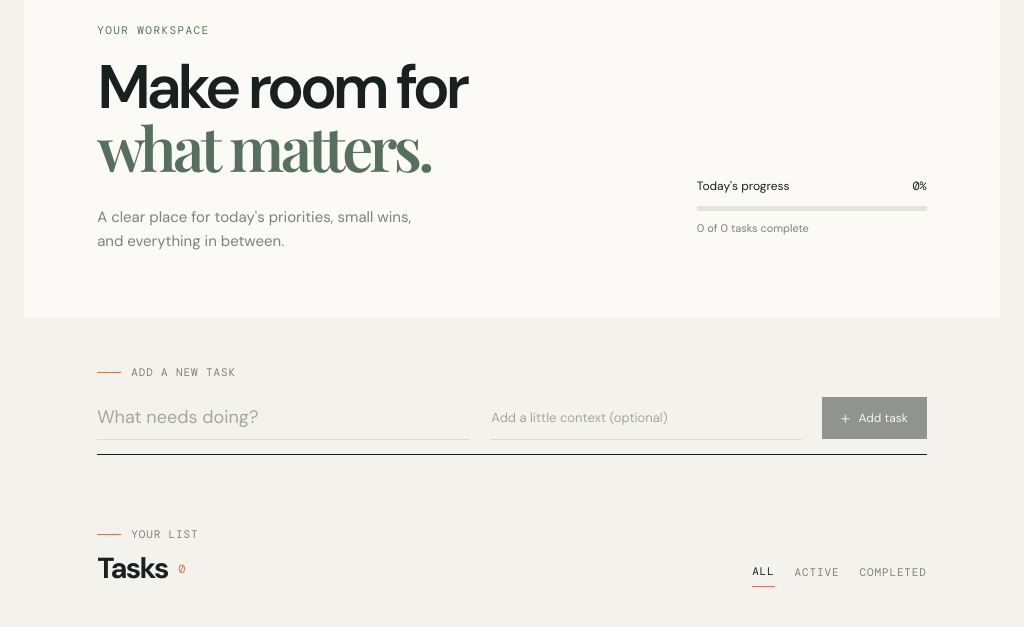
Test: Taskflow app › creates a task through the API
Type "Ship feature" into the field named "Task title" at point(283, 418), box x1=97 y1=395 x2=469 y2=440
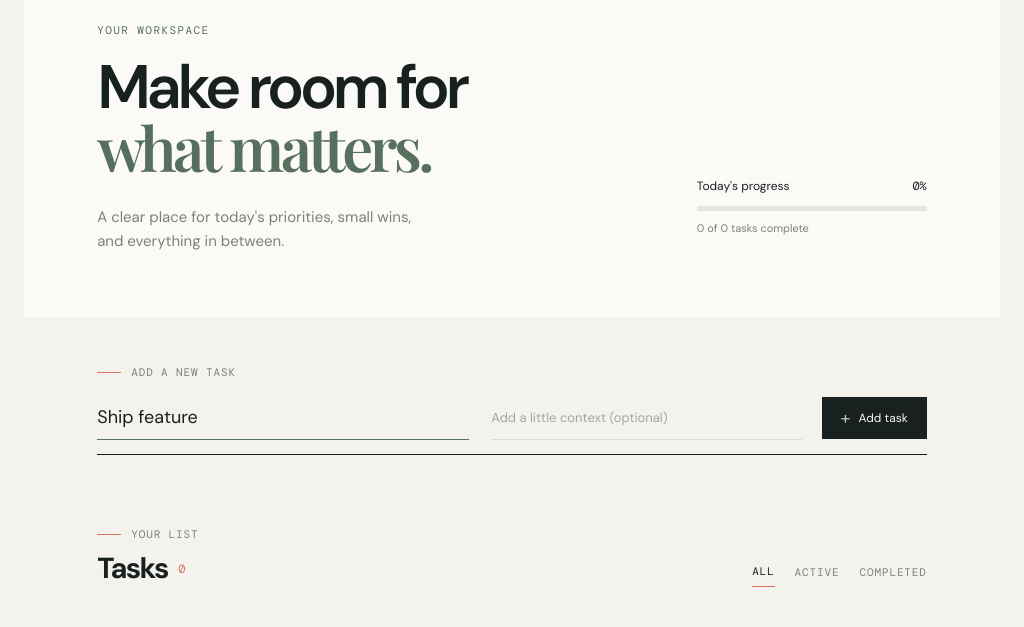
Click the button "+ Add task" at point(874, 418), box x1=822 y1=397 x2=927 y2=439
(page scrolled)
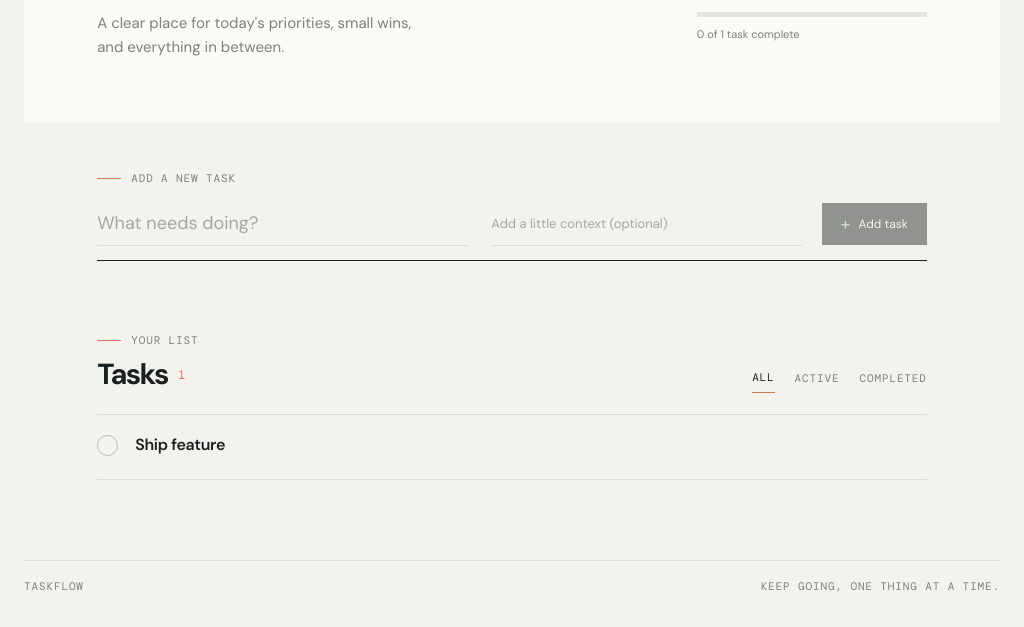
Expected: the heading "Ship feature" is shown, x1=135 y1=434 x2=225 y2=455
